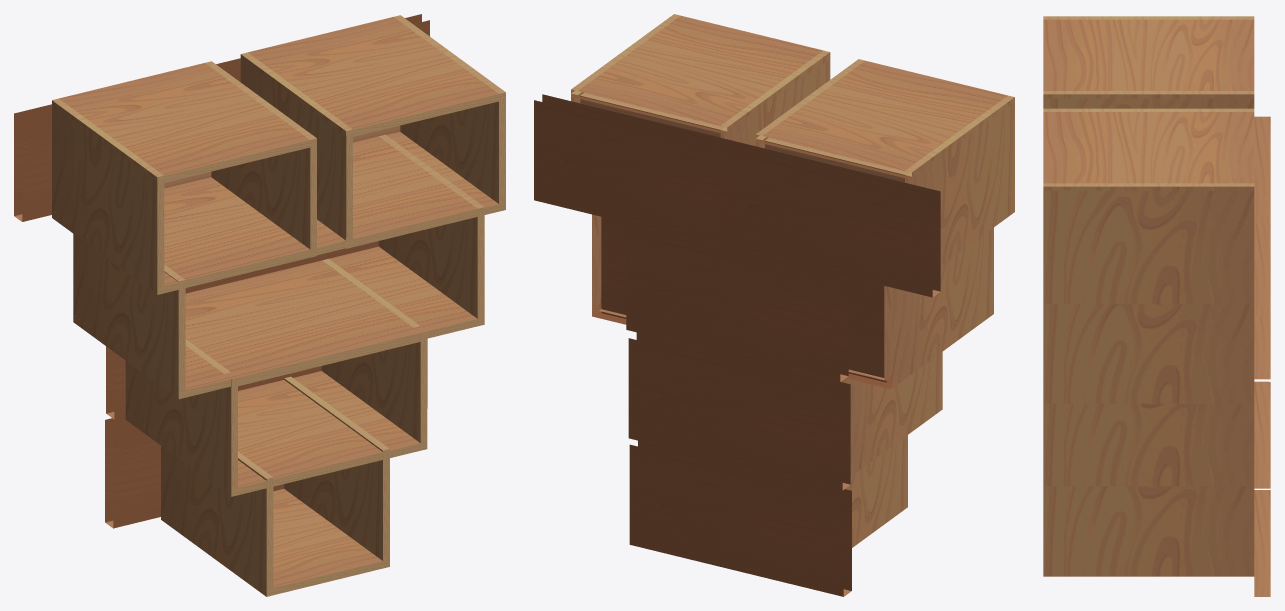
The model's file is layout_upsideDownTriangle_split_up.fbx.
3 views of the same model, side by side, from view 1: azimuth 30°, elevation 25°; view 2: azimuth 150°, elevation 25°; view 3: azimuth 270°, elevation 25° (orthographic). The views are drawn at different scales.
Parts seen in each view (by area): view 1: Shelf-BM-00 1, Shelf-TM-00 1, Shelf-TM-00 3, Shelf-TM-00 4, Shelf-CL-01 3, Shelf-CL-01 1, Shelf-CL-01 2, Shelf-TM-00 2, Shelf-CL-01, Shelf-CR-01 2, Shelf-CR-01, Shelf-BM-00 2 (+21 smaller); view 2: Shelf-Back-00 (1) 3, Shelf-Back-00 (1), Shelf-Back-00 (1) 1, Shelf-Back-00 (1) 2, Shelf-Back-00 (1) 4, Shelf-TM-00 4, Shelf-TM-00 3, Shelf-CL-01 1, Shelf-CL-01 3, Shelf-Back-00 1, Shelf-CL-01, Shelf-CL-01 2 (+11 smaller); view 3: Shelf-CR-01 4, Shelf-CR-01 1, Shelf-CR-01 2, Shelf-CR-01, Shelf-TM-00 3, Shelf-TM-00 4, Shelf-CR-01 3, Shelf-CR-00, Shelf-Back-00 (1) 3, Shelf-Back-00 (1), Shelf-Back-00 (1) 2, Shelf-CR-00 1 (+8 smaller).
Boxes of the visible parts, x1,y1,x2,y2 form: Shelf-BM-00 1: [185, 246, 477, 397]; Shelf-TM-00 1: [164, 136, 477, 286]; Shelf-TM-00 3: [59, 63, 310, 182]; Shelf-TM-00 4: [248, 17, 498, 136]; Shelf-CL-01 3: [52, 105, 164, 287]; Shelf-CL-01 1: [73, 234, 185, 391]; Shelf-CL-01 2: [161, 446, 273, 589]; Shelf-TM-00 2: [238, 380, 382, 478]; Shelf-CL-01: [125, 339, 237, 489]; Shelf-CR-01 2: [284, 376, 389, 560]; Shelf-CR-01: [321, 259, 427, 443]; Shelf-BM-00 2: [273, 489, 382, 595]; Shelf-Back-00 (1) 3: [718, 139, 940, 297]; Shelf-Back-00 (1): [628, 332, 850, 490]; Shelf-Back-00 (1) 1: [626, 225, 848, 381]; Shelf-Back-00 (1) 2: [629, 440, 851, 596]; Shelf-Back-00 (1) 4: [534, 94, 755, 252]; Shelf-TM-00 4: [578, 15, 822, 132]; Shelf-TM-00 3: [763, 60, 1007, 177]; Shelf-CL-01 1: [884, 227, 993, 381]; Shelf-CL-01 3: [905, 101, 1014, 258]; Shelf-Back-00 1: [601, 217, 886, 382]; Shelf-CL-01: [841, 352, 942, 468]; Shelf-CL-01 2: [845, 435, 907, 540]; Shelf-CR-01 4: [1043, 191, 1254, 296]; Shelf-CR-01 1: [1043, 304, 1254, 395]; Shelf-CR-01 2: [1043, 486, 1254, 568]; Shelf-CR-01: [1043, 403, 1254, 478]; Shelf-TM-00 3: [1043, 19, 1254, 90]; Shelf-TM-00 4: [1043, 112, 1254, 183]; Shelf-CR-01 3: [1043, 98, 1254, 108]; Shelf-CR-00: [1043, 478, 1254, 486]; Shelf-Back-00 (1) 3: [1254, 116, 1270, 223]; Shelf-Back-00 (1): [1254, 381, 1270, 488]; Shelf-Back-00 (1) 2: [1254, 490, 1270, 596]; Shelf-CR-00 1: [1043, 396, 1254, 403].
Bounding box in the file's own units: 179 × 187 × 86.3.
